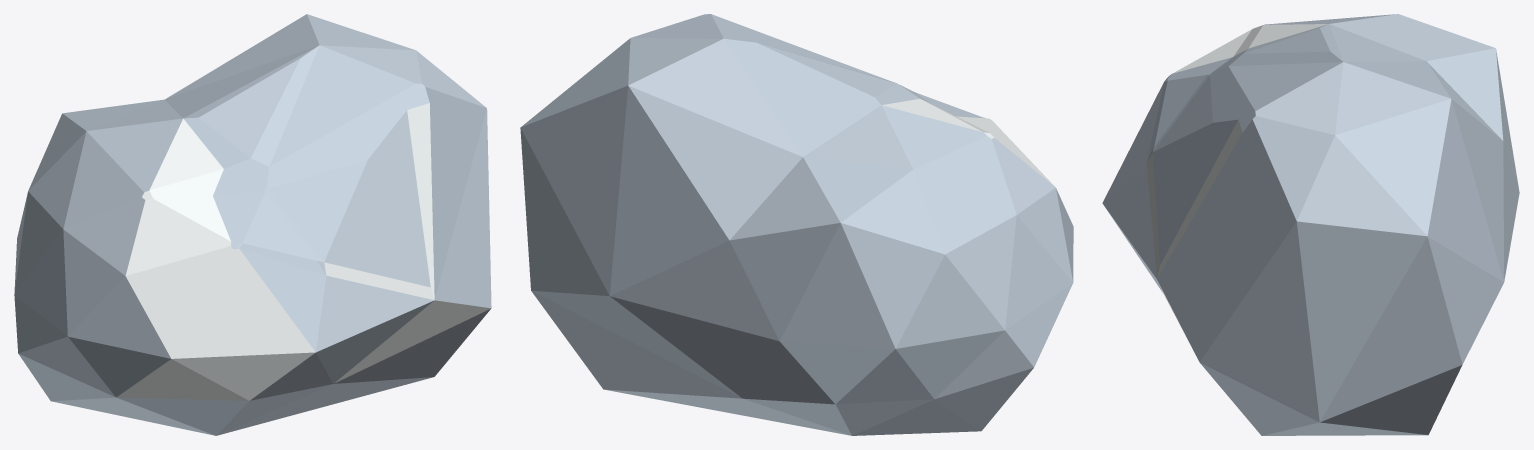
The model's file is rock_2.fbx.
The picture shows the model from 3 angles, left to right: view 1: azimuth 30°, elevation 25°; view 2: azimuth 150°, elevation 25°; view 3: azimuth 270°, elevation 25°; orthographic projection. The views are drawn at different scales.
Parts seen in each view (by area): view 1: rock_2; view 2: rock_2; view 3: rock_2.
Boxes of the visible parts, x1,y1,x2,y2 form: rock_2: [14, 14, 491, 435]; rock_2: [520, 14, 1073, 435]; rock_2: [1102, 14, 1519, 435].
Size of the model in its own units: 265 by 183 by 203.
